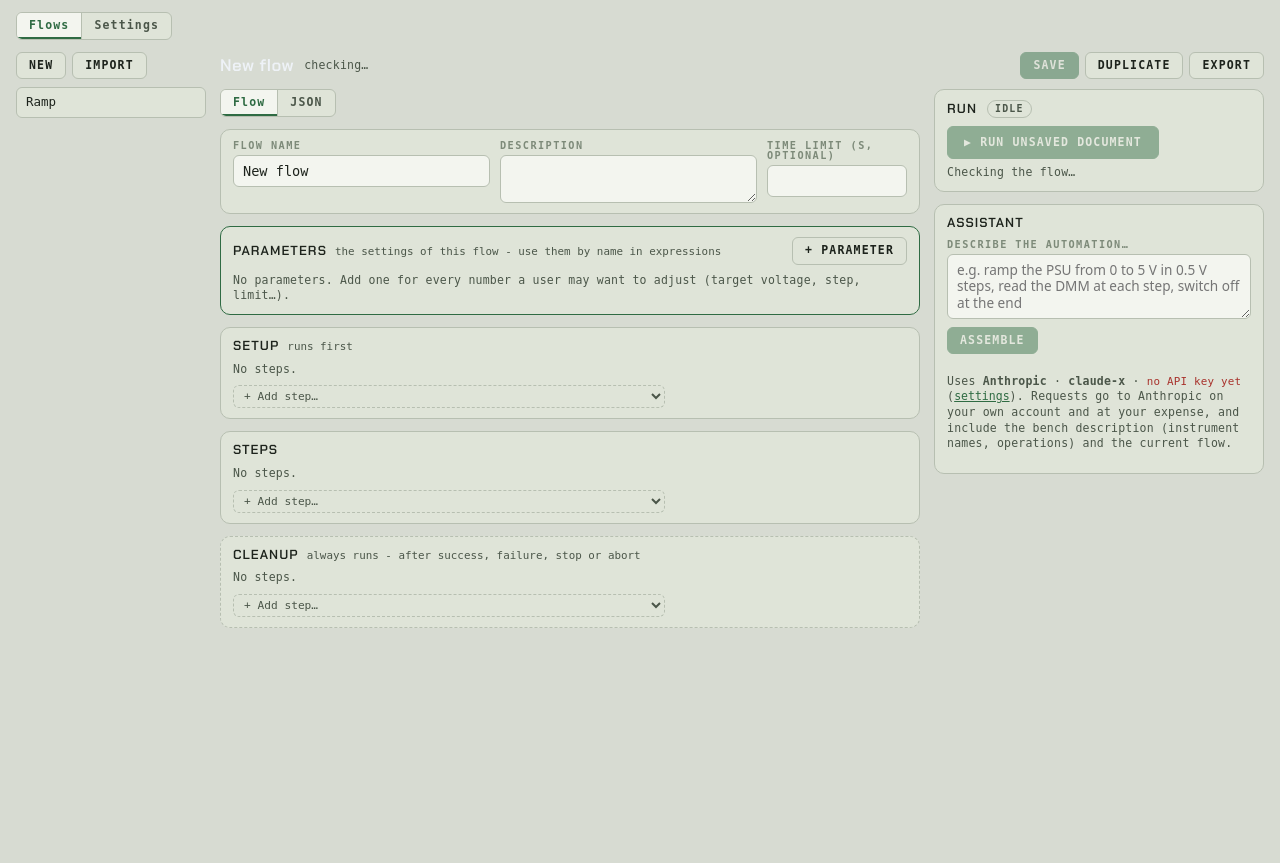
Test case: flow editor › loads a saved flow, edits a set step through the pickers and saves it
Click the button "Ramp" at (111, 102), box [16,87,206,118]
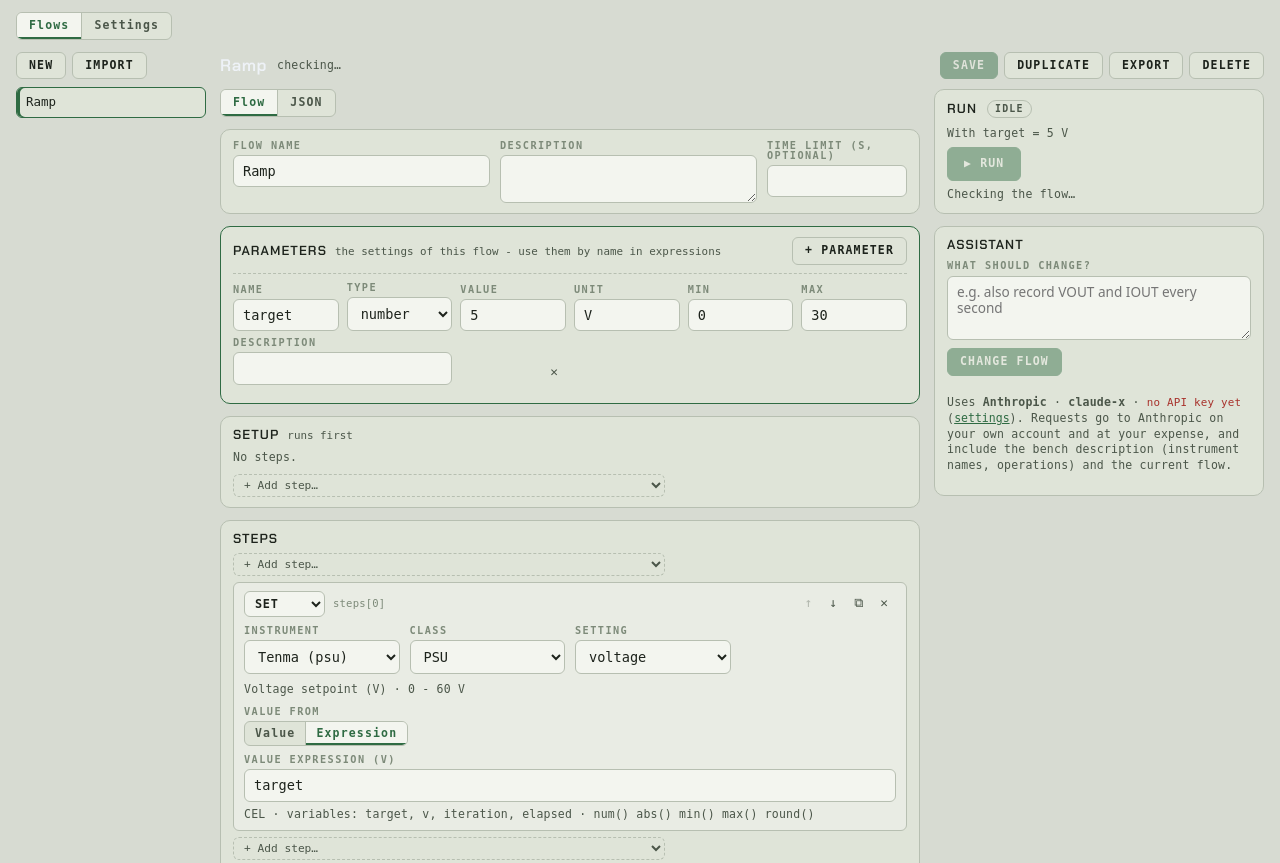
Expected: the field named "Parameter 1 name" holds "target", [233,299,339,331]
Select "output ⚡" in the dropdown labelled "Setting" at (653, 657), box [575,640,730,674]
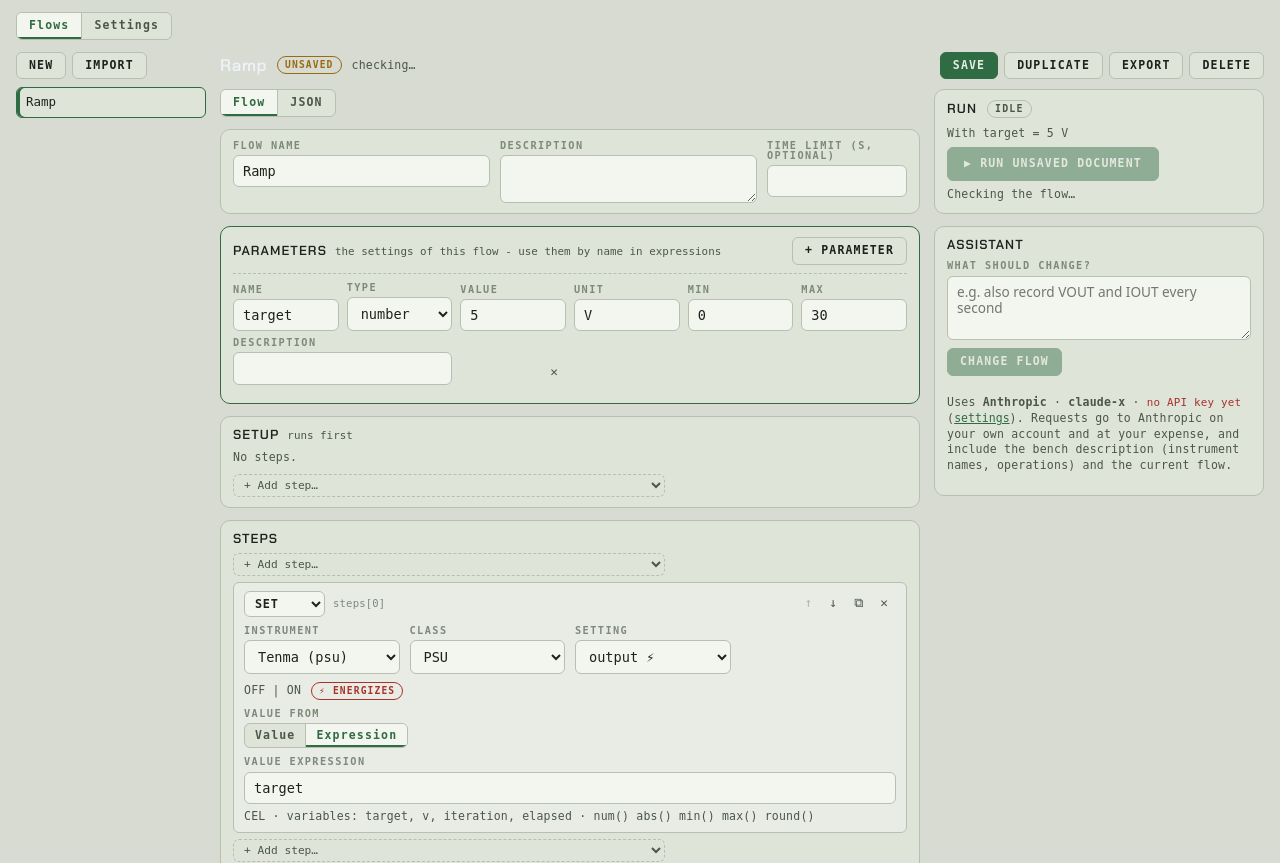
Select "current" in the dropdown labelled "Setting" at (653, 657), box [575,640,730,674]
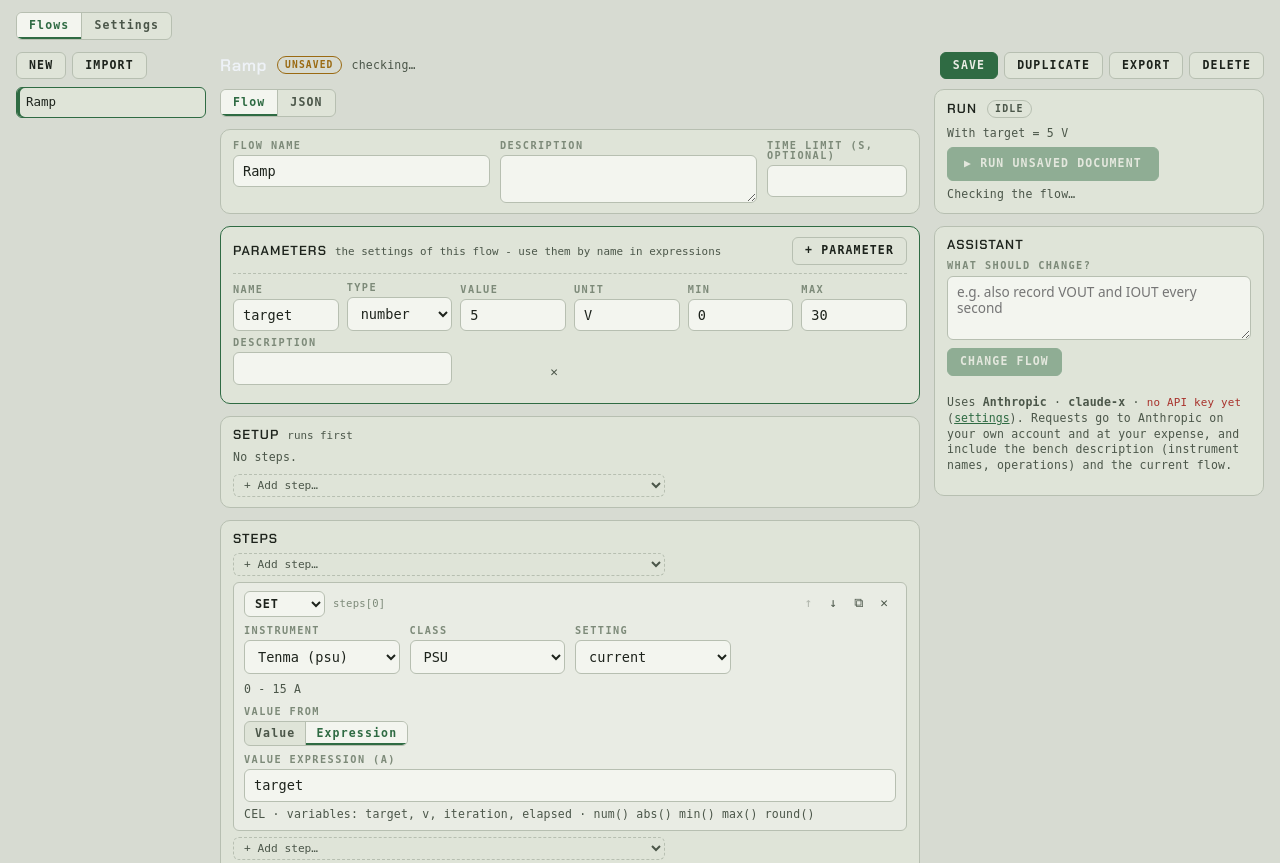
Click the button "Value" at (275, 733), box [245,722,305,745]
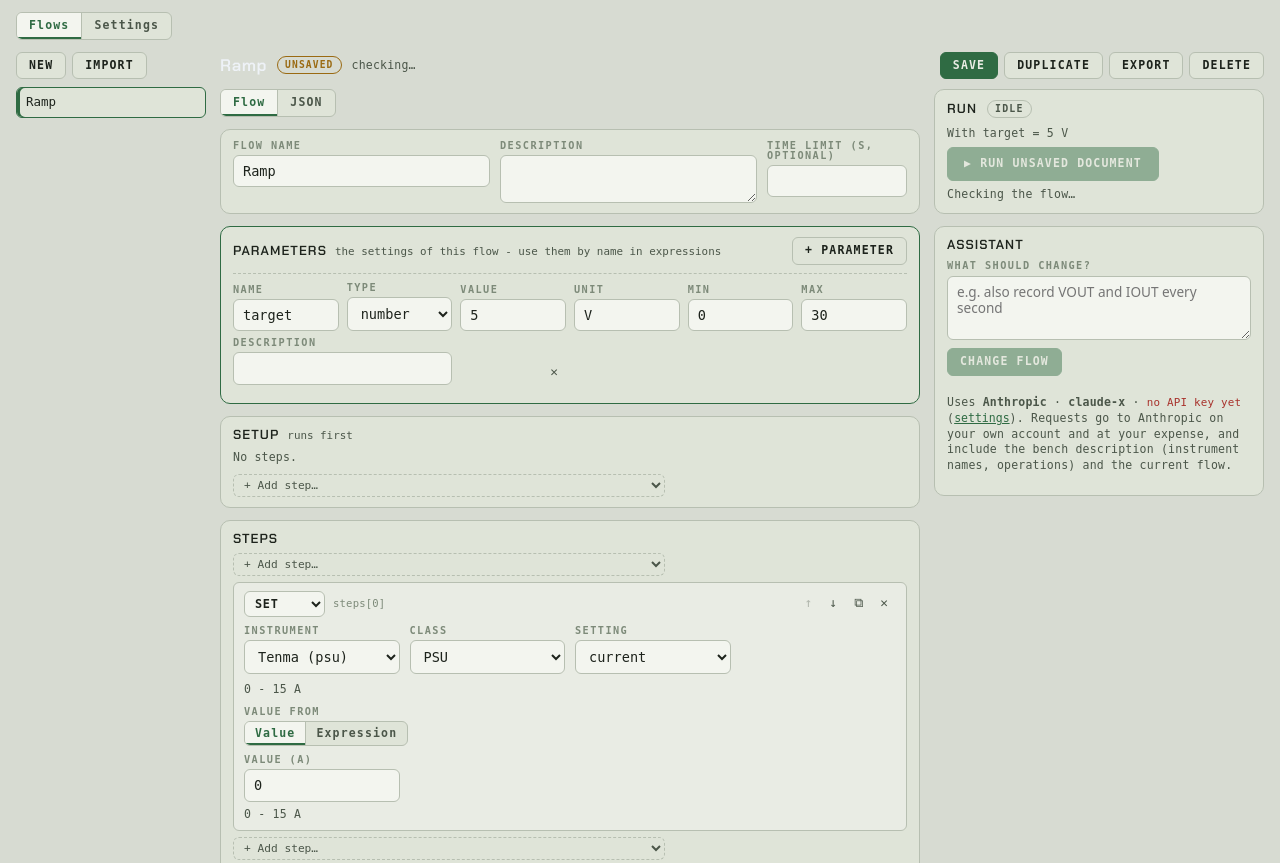
Replace the text in the number field labelled "Value (A)" with "1.25" at (322, 786), box [244,770,400,802]
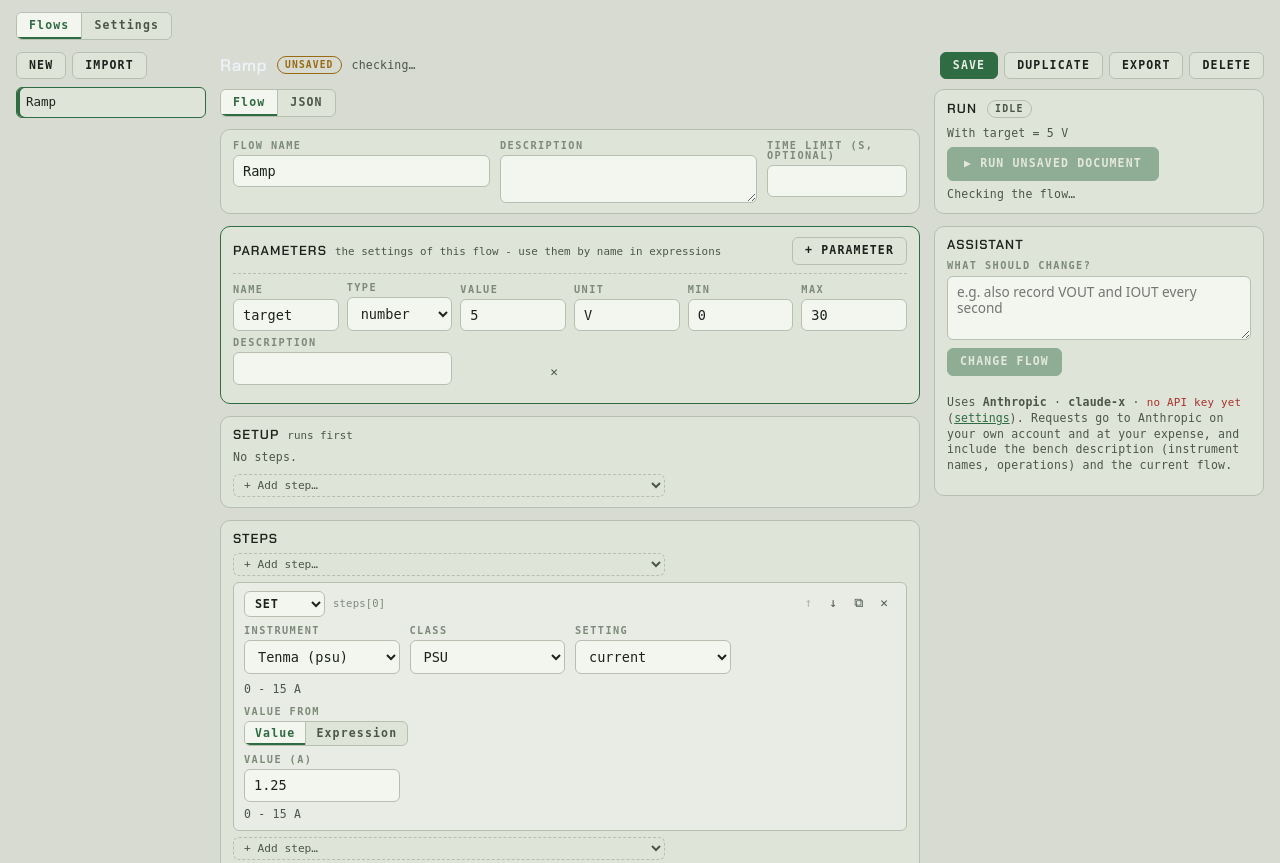
Expected: the text "unsaved" is shown, [277,56,342,74]
Expected: the button "Save" is enabled
Click the button "Save" at (969, 65), box [940,52,998,79]
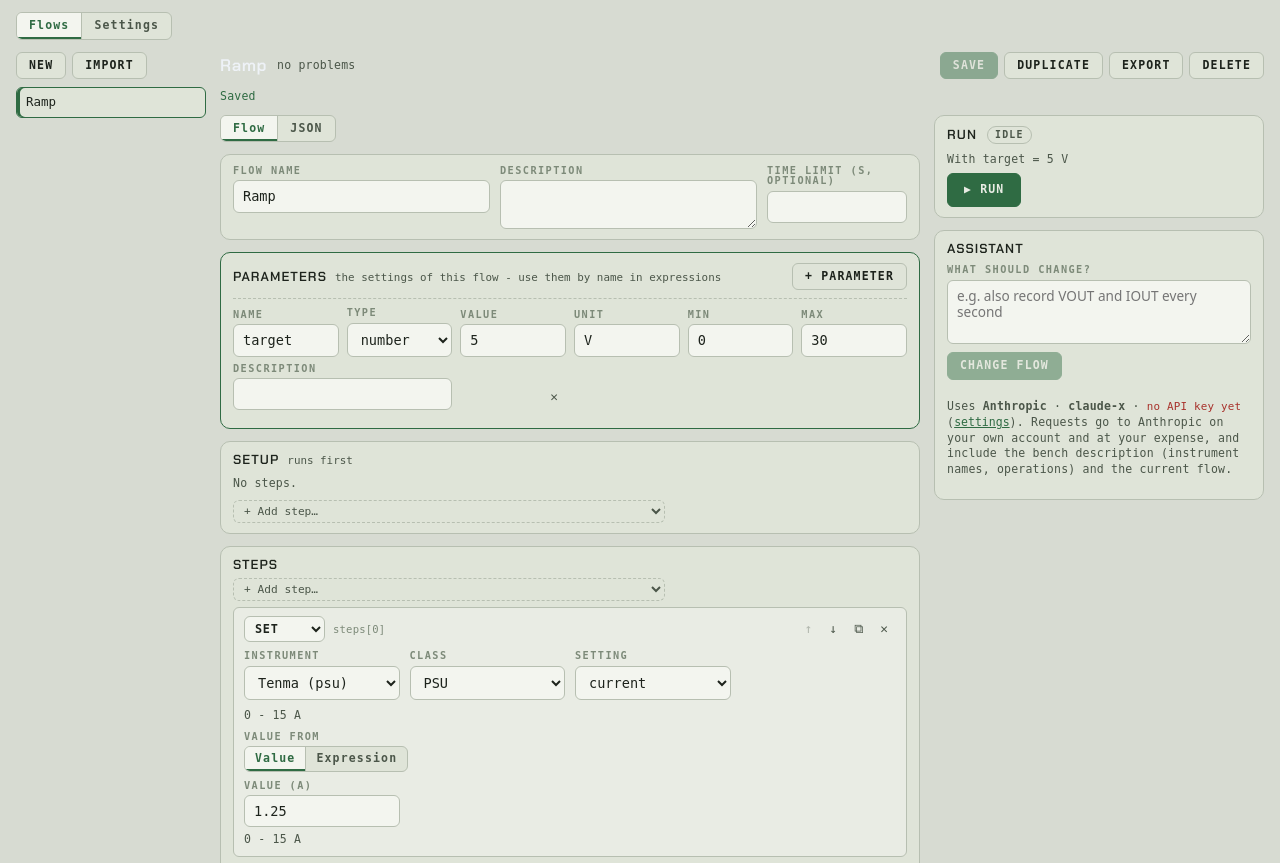
Expected: the text "Saved" is shown, [220,89,256,103]
Expected: the text with test id "unsaved" is gone
